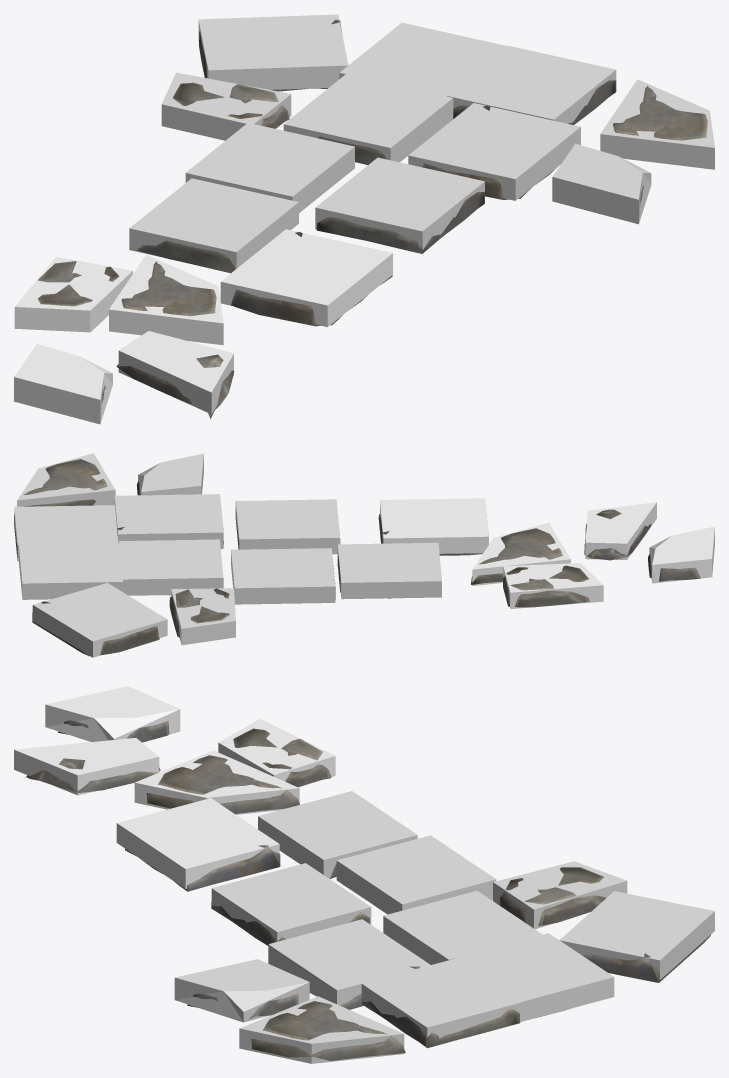
Rendered from Floor_B.fbx.
3 views of the same model, one above another, from view 1: azimuth 30°, elevation 25°; view 2: azimuth 150°, elevation 25°; view 3: azimuth 270°, elevation 25° (orthographic). The views are drawn at different scales.
Visible parts, largest first — view 1: Cube_4, Cube, Cube_5, Cube_3, Cube_8, Cube_2, Cube_1, Cube_6, Cube_7, Rock_A25_PZ_1, Rock_A25_PZ, Rock_A23_PZ (+14 smaller); view 2: Cube_2, Cube_4, Cube_3, Cube_8, Cube, Cube_1, Cube_7, Cube_5, Cube_6, Rock_A23_PZ, Rock_A25_PZ, Rock_A24_PZ_1 (+11 smaller); view 3: Cube, Cube_4, Cube_2, Cube_7, Cube_5, Cube_6, Cube_3, Cube_1, Cube_8, Rock_A25_PZ_1, Rock_A25_PZ, Rock_A23_PZ (+15 smaller).
Part boxes in pixels (x1=…): Cube_4: x1=198, y1=14, x2=348, y2=89; Cube: x1=220, y1=229, x2=392, y2=327; Cube_5: x1=408, y1=103, x2=580, y2=200; Cube_3: x1=129, y1=178, x2=298, y2=269; Cube_8: x1=283, y1=74, x2=453, y2=162; Cube_2: x1=185, y1=123, x2=354, y2=212; Cube_1: x1=315, y1=157, x2=484, y2=249; Cube_6: x1=447, y1=46, x2=616, y2=124; Cube_7: x1=339, y1=22, x2=507, y2=96; Rock_A25_PZ_1: x1=552, y1=143, x2=651, y2=224; Rock_A25_PZ: x1=14, y1=344, x2=112, y2=424; Rock_A23_PZ: x1=118, y1=331, x2=233, y2=414; Cube_2: x1=231, y1=548, x2=335, y2=604; Cube_4: x1=32, y1=583, x2=167, y2=657; Cube_3: x1=337, y1=542, x2=441, y2=599; Cube_8: x1=119, y1=539, x2=223, y2=595; Cube: x1=380, y1=498, x2=488, y2=553; Cube_1: x1=235, y1=499, x2=339, y2=554; Cube_7: x1=19, y1=543, x2=122, y2=599; Cube_5: x1=114, y1=494, x2=223, y2=548; Cube_6: x1=14, y1=505, x2=118, y2=561; Rock_A23_PZ: x1=585, y1=502, x2=656, y2=559; Rock_A25_PZ: x1=649, y1=526, x2=714, y2=583; Rock_A24_PZ_1: x1=171, y1=588, x2=235, y2=645; Cube: x1=116, y1=798, x2=279, y2=888; Cube_4: x1=559, y1=891, x2=714, y2=979; Cube_2: x1=336, y1=835, x2=496, y2=914; Cube_7: x1=454, y1=933, x2=614, y2=1021; Cube_5: x1=268, y1=919, x2=430, y2=1005; Cube_6: x1=361, y1=958, x2=521, y2=1038; Cube_3: x1=258, y1=791, x2=417, y2=878; Cube_1: x1=211, y1=863, x2=371, y2=941; Cube_8: x1=383, y1=890, x2=542, y2=964; Rock_A25_PZ_1: x1=174, y1=959, x2=309, y2=1022; Rock_A25_PZ: x1=45, y1=686, x2=180, y2=741; Rock_A23_PZ: x1=14, y1=738, x2=159, y2=795.
Bounding box in the file's own units: 743 × 32.6 × 616.
2 materials, 1 textured.
